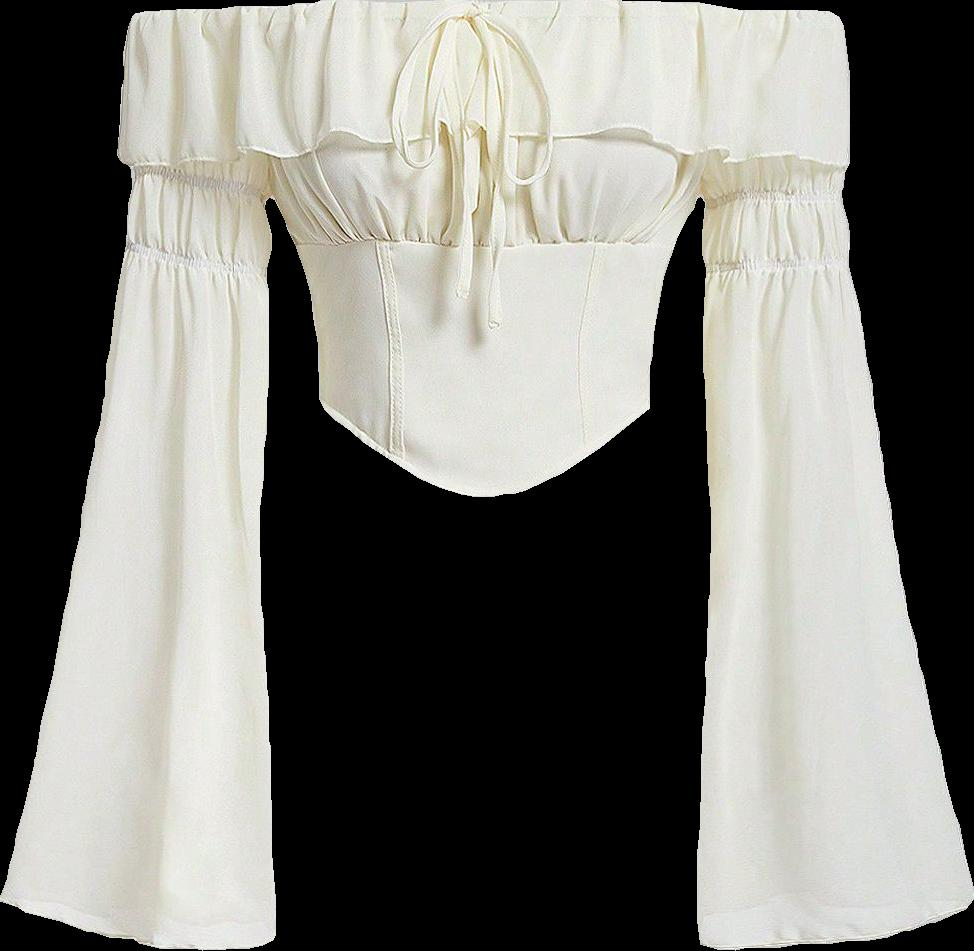Bodice: (263, 0, 714, 496)
Neckline: (293, 230, 678, 251), (254, 0, 719, 17)
Sleeve: (697, 6, 973, 948), (0, 4, 275, 948)
Sleeveline: (704, 0, 843, 159), (133, 0, 275, 155), (120, 238, 270, 272), (703, 181, 840, 210), (135, 165, 262, 196), (706, 252, 848, 277)
Waistline: (315, 397, 652, 501), (262, 119, 718, 163), (116, 137, 265, 171), (717, 148, 851, 169)
